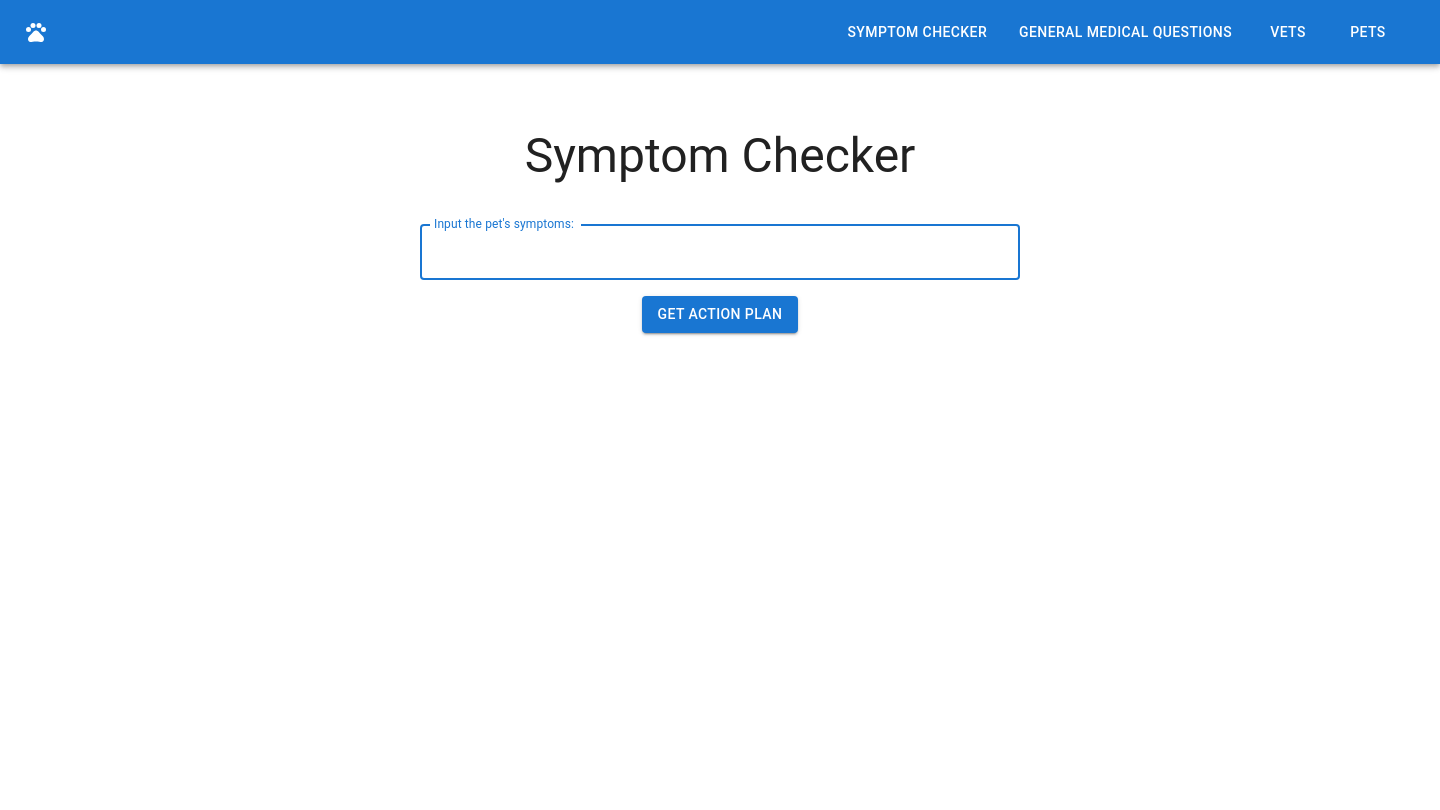
Scenario: Can navigate to all the pages
Check: the heading "Symptom Checker" is shown, box [525, 127, 915, 184]
Click the pets button and check if the Pets page is displayed
Click the button "Pets" at (1368, 32), box [1336, 14, 1400, 50]
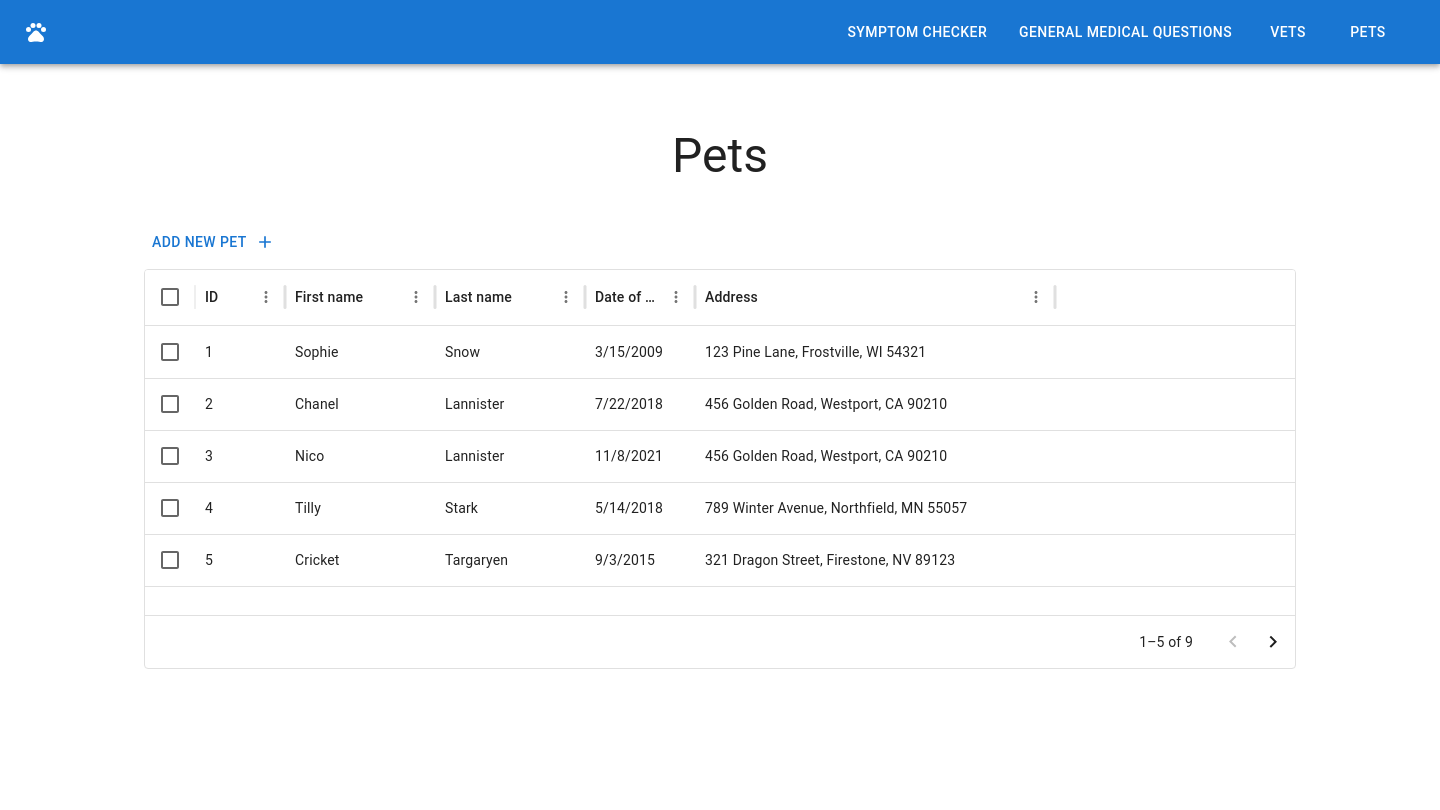
Check: the heading "Pets" is shown, box [672, 127, 768, 184]
Click the vets button and check if the Vets page is displayed
Click the button "Vets" at (1288, 32), box [1256, 14, 1320, 50]
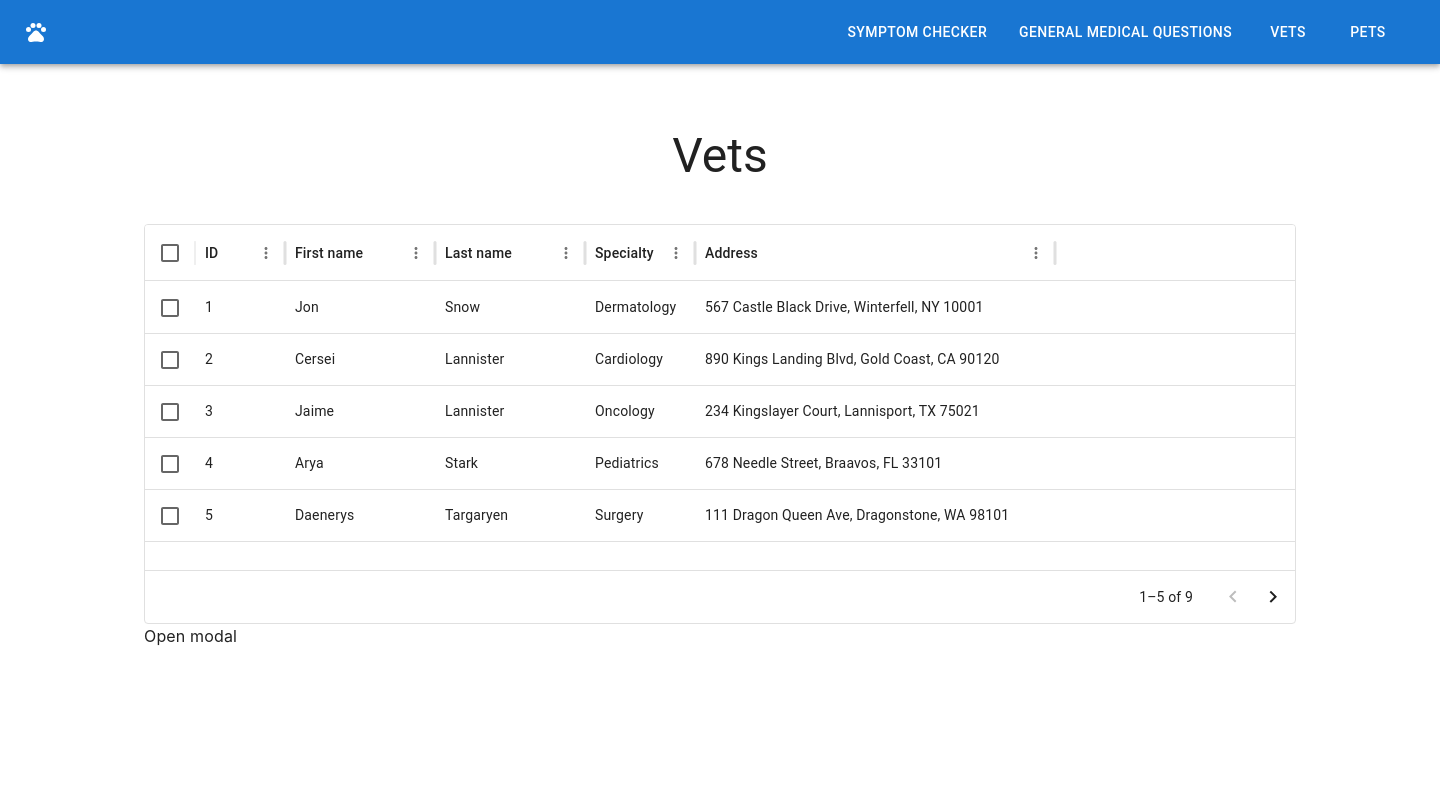
Check: the heading "Vets" is shown, box [672, 127, 768, 184]
Click the General Medical Questions button and check if the General Medical Questions page is displayed
Click the button "General Medical Questions" at (1126, 32), box [1011, 14, 1240, 50]
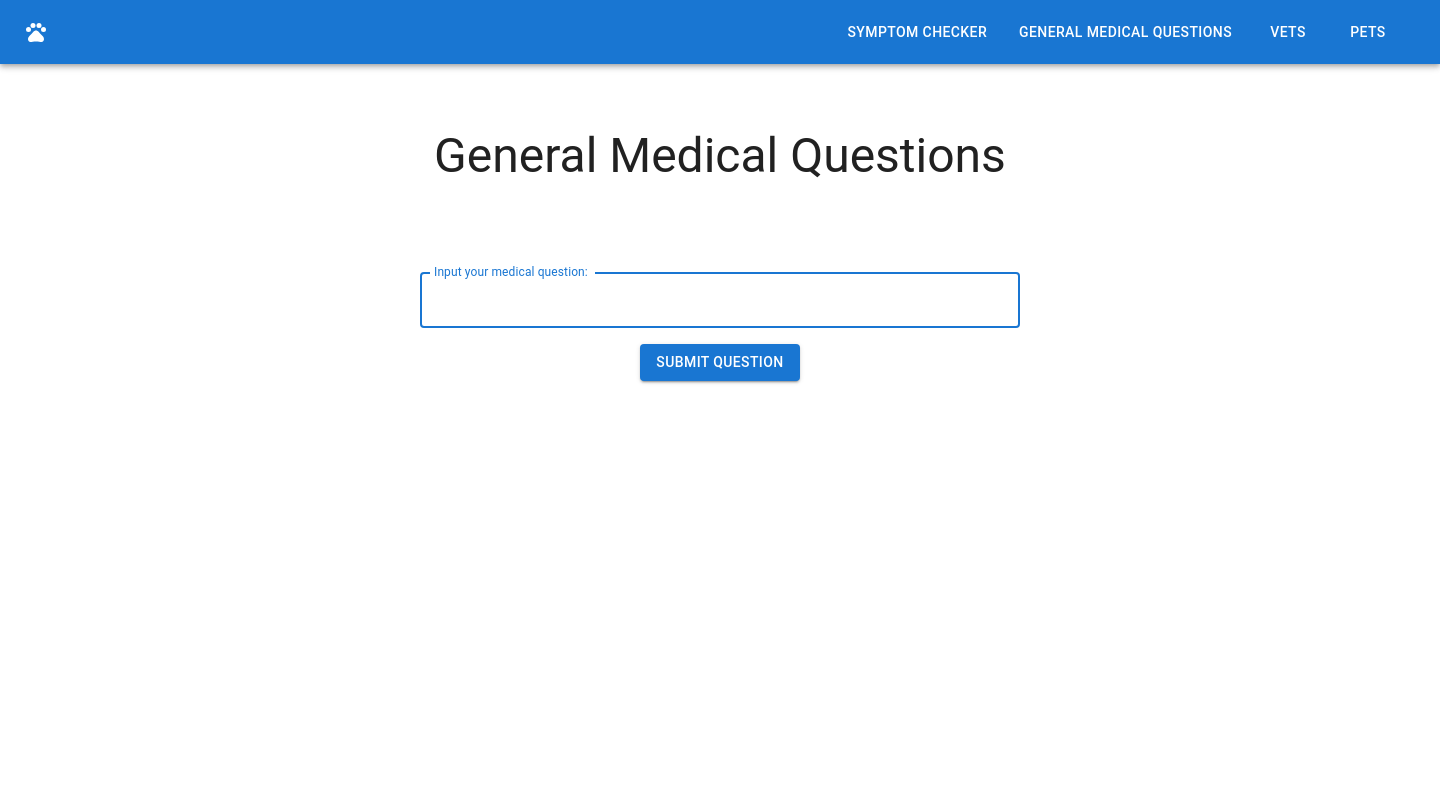
Check: the heading "General Medical Questions" is shown, box [434, 127, 1006, 184]
Click the homepage icon and check if the Symptom Checker page is displayed
Click the button named "homepage" at (36, 32), box [12, 8, 60, 56]
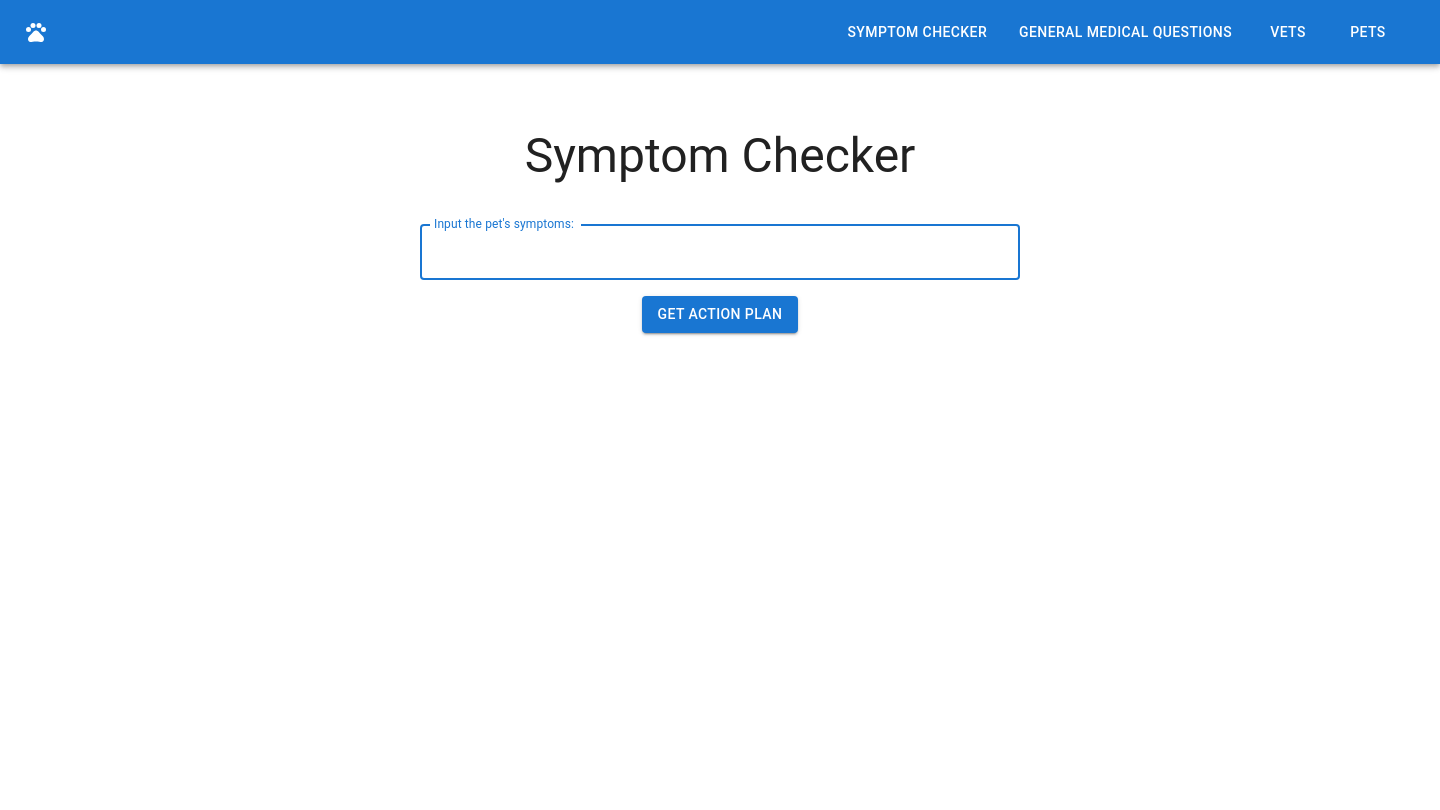
Check: the heading "Symptom Checker" is shown, box [525, 127, 915, 184]
